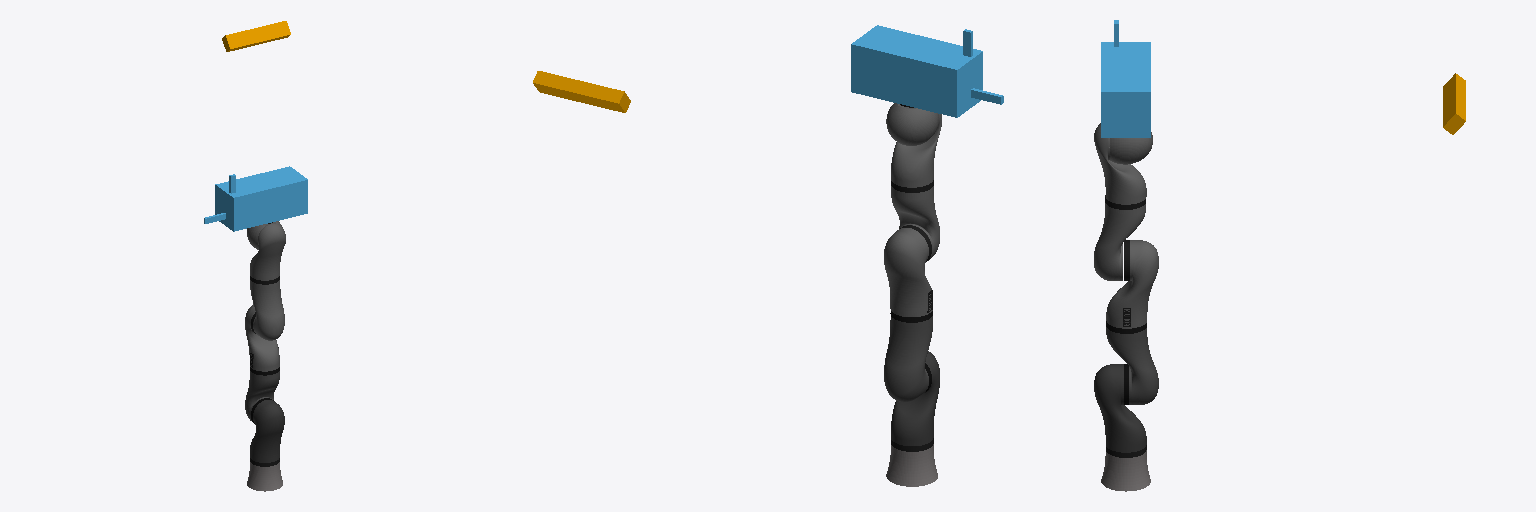
The robot description file, URDF, robot "lbr3_org":
<?xml version="1.0"?>
<robot name="lbr3_org">

 <link name="link_kinect">
    <visual>
      <geometry>
       <box size = "0.06 0.28 .04"/>
      </geometry>
      <material name="Blue"/>
    </visual>
 </link>

 <link name="segment_0">
    <visual>
      <geometry>
        <mesh filename="package://lbr3_model/cad/segment_0.dae" scale="0.001 0.001 0.001"/>
      </geometry>
    </visual>
	<collision>
			<geometry>
				<mesh filename="package://lbr3_model/cad/segment_0_collision.dae" scale="0.001 0.001 0.001"/>
			</geometry>
	</collision>
  </link>

 <link name="segment_1">
    <visual>
      <geometry>
        <mesh filename="package://lbr3_model/cad/segment_1.dae" scale="0.001 0.001 0.001"/>
      </geometry>
    </visual>
	<collision>
			<geometry>
				<mesh filename="package://lbr3_model/cad/segment_1_collision.dae" scale="0.001 0.001 0.001"/>
			</geometry>
		</collision> 
  </link>

 <link name="segment_2">
    <visual>
      <geometry>
        <mesh filename="package://lbr3_model/cad/segment_2.dae" scale="0.001 0.001 0.001"/>
      </geometry>
    </visual>
	<collision>
			<geometry>
				<mesh filename="package://lbr3_model/cad/segment_2_collision.dae" scale="0.001 0.001 0.001"/>
			</geometry>
		</collision>
  </link>

 <link name="segment_3">
    <visual>
      <geometry>
        <mesh filename="package://lbr3_model/cad/segment_3.dae" scale="0.001 0.001 0.001"/>
      </geometry>
    </visual>
		<collision>
			<geometry>
				<mesh filename="package://lbr3_model/cad/segment_3_collision.dae" scale="0.001 0.001 0.001"/>
			</geometry>
		</collision> 
  </link>

 <link name="segment_4">
    <visual>
      <geometry>
        <mesh filename="package://lbr3_model/cad/segment_4.dae" scale="0.001 0.001 0.001"/>
      </geometry>
    </visual>
		<collision>
			<geometry>
				<mesh filename="package://lbr3_model/cad/segment_4_collision.dae" scale="0.001 0.001 0.001"/>
			</geometry>
		</collision> -->
  </link>

 <link name="segment_5">
    <visual>
      <geometry>
        <mesh filename="package://lbr3_model/cad/segment_5.dae" scale="0.001 0.001 0.001"/>
      </geometry>
    </visual>
		<collision>
			<geometry>
				<mesh filename="package://lbr3_model/cad/segment_5_collision.dae" scale="0.001 0.001 0.001"/>
			</geometry>
		</collision> 
  </link>

  <link name="segment_6">
    <visual>
      <geometry>
        <mesh filename="package://lbr3_model/cad/segment_6.dae" scale="0.001 0.001 0.001"/>
      </geometry>
    </visual>
		<collision>
			<geometry>
				<mesh filename="package://lbr3_model/cad/segment_6_collision.dae" scale="0.001 0.001 0.001"/>
			</geometry>
		</collision>
  </link>

  <link name="segment_7">
    <visual>
      <geometry>
        <mesh filename="package://lbr3_model/cad/segment_7.dae" scale="0.001 0.001 0.001"/>
      </geometry>
    </visual>
		<collision>
			<geometry>
				<mesh filename="package://lbr3_model/cad/segment_7_collision.dae" scale="0.001 0.001 0.001"/>
			</geometry>
		</collision>
  </link>
<!--
  <link name="finger_1_link_0">
    <visual>
      <origin rpy="0 0 0" xyz="0.020 0 0"/>
      <geometry>
        <mesh filename="package://robotiq_s_model_visualization/meshes/s-model_articulated/visual/link_0.STL"/>
      </geometry>
      <material name="green">
        <color rgba="0 1 0 1"/>
      </material>
    </visual>
    <collision>
      <origin rpy="0 3.1416 -1.57" xyz="-0.0455 0.0414 0.036"/>
      <geometry>
        <mesh filename="package://robotiq_s_model_visualization/meshes/s-model_articulated/collision/link_0.STL"/>
      </geometry>
      <material name="yellow">
        <color rgba="0 1 1 1"/>
      </material>
    </collision>
    <inertial>
      <origin rpy="0 0 0" xyz="0 0 0"/>
      <mass value="0.05"/>
      <inertia ixx="0.01" ixy="-0.00002" ixz="0.00001" iyy="0.0008" iyz="0" izz="0.001"/>
    </inertial>
  </link>
  <link name="finger_1_link_1">
    <visual>
      <origin rpy="0 0 -0.52" xyz="0.050 -.028 0"/>
      <geometry>
        <mesh filename="package://robotiq_s_model_visualization/meshes/s-model_articulated/visual/link_1.STL"/>
      </geometry>
      <material name="green"/>
    </visual>
    <collision>
      <origin rpy="0 0 -0.52" xyz="0.050 -.028 0"/>
      <geometry>
        <mesh filename="package://robotiq_s_model_visualization/meshes/s-model_articulated/collision/link_1.STL"/>
      </geometry>
      <material name="yellow"/>
    </collision>
    <inertial>
      <origin rpy="0 0 0" xyz="0 0 0"/>
      <mass value="0.15"/>
      <inertia ixx="0.001859" ixy="-0.000376" ixz="0.000028" iyy="0.012756" iyz="0" izz="0.0024"/>
    </inertial>
  </link>
  <link name="finger_1_link_2">

    <visual>
      <origin rpy="0 0 0" xyz="0.039 0 0.0075"/>
      <geometry>
        <mesh filename="package://robotiq_s_model_visualization/meshes/s-model_articulated/visual/link_2.STL"/>
      </geometry>
      <material name="green"/>
    </visual>
    <collision>
      <origin rpy="0 0 0" xyz="0.039 0 0.0075"/>
      <geometry>
        <mesh filename="package://robotiq_s_model_visualization/meshes/s-model_articulated/collision/link_2.STL"/>
      </geometry>
      <material name="yellow"/>
    </collision>
    <inertial>
      <origin rpy="0 0 0" xyz="0 0 0"/>
      <mass value="0.15"/>
      <inertia ixx="0.001859" ixy="-0.000376" ixz="0.000028" iyy="0.012756" iyz="0" izz="0.0024"/>
    </inertial>
  </link>
  <link name="finger_1_link_3">
    <visual>
      <origin rpy="0 0 0.52" xyz="0 0 0"/>
      <geometry>
        <mesh filename="package://robotiq_s_model_visualization/meshes/s-model_articulated/visual/link_3.STL"/>
      </geometry>
      <material name="green"/>
    </visual>
    <collision>
      <origin rpy="0 0 0.52" xyz="0 0 0"/>
      <geometry>
        <mesh filename="package://robotiq_s_model_visualization/meshes/s-model_articulated/collision/link_3.STL"/>
      </geometry>
      <material name="yellow"/>
    </collision>
    <inertial>
      <origin rpy="0 0 0" xyz="0 0 0"/>
      <mass value="0.05"/>
      <inertia ixx="0.001239" ixy="-0.000251" ixz="0.000019" iyy="0.00085" iyz="0" izz="0.001632"/>
    </inertial>
  </link>
 
  <link name="finger_2_link_0">
    <visual>
      <origin rpy="0 0 0" xyz="0.020 0 0"/>
      <geometry>
        <mesh filename="package://robotiq_s_model_visualization/meshes/s-model_articulated/visual/link_0.STL"/>
      </geometry>
      <material name="green">
        <color rgba="0 1 0 1"/>
      </material>
    </visual>
    <collision>
      <origin rpy="0 3.1416 -1.57" xyz="-0.0455 0.0414 0.036"/>
      <geometry>
        <mesh filename="package://robotiq_s_model_visualization/meshes/s-model_articulated/collision/link_0.STL"/>
      </geometry>
      <material name="yellow">
        <color rgba="0 1 1 1"/>
      </material>
    </collision>
    <inertial>
      <origin rpy="0 0 0" xyz="0 0 0"/>
      <mass value="0.05"/>
      <inertia ixx="0.01" ixy="-0.00002" ixz="0.00001" iyy="0.0008" iyz="0" izz="0.001"/>
    </inertial>
  </link>
  <link name="finger_2_link_1">
    <visual>
      <origin rpy="0 0 -0.52" xyz="0.050 -.028 0"/>
      <geometry>
        <mesh filename="package://robotiq_s_model_visualization/meshes/s-model_articulated/visual/link_1.STL"/>
      </geometry>
      <material name="green"/>
    </visual>
    <collision>
      <origin rpy="0 0 -0.52" xyz="0.050 -.028 0"/>
      <geometry>
        <mesh filename="package://robotiq_s_model_visualization/meshes/s-model_articulated/collision/link_1.STL"/>
      </geometry>
      <material name="yellow"/>
    </collision>
    <inertial>
      <origin rpy="0 0 0" xyz="0 0 0"/>
      <mass value="0.15"/>
      <inertia ixx="0.001859" ixy="-0.000376" ixz="0.000028" iyy="0.012756" iyz="0" izz="0.0024"/>
    </inertial>
  </link>
  <link name="finger_2_link_2">

			
    <visual>
      <origin rpy="0 0 0" xyz="0.039 0 0.0075"/>
      <geometry>
        <mesh filename="package://robotiq_s_model_visualization/meshes/s-model_articulated/visual/link_2.STL"/>
      </geometry>
      <material name="green"/>
    </visual>
    <collision>
      <origin rpy="0 0 0" xyz="0.039 0 0.0075"/>
      <geometry>
        <mesh filename="package://robotiq_s_model_visualization/meshes/s-model_articulated/collision/link_2.STL"/>
      </geometry>
      <material name="yellow"/>
    </collision>
    <inertial>
      <origin rpy="0 0 0" xyz="0 0 0"/>
      <mass value="0.15"/>
      <inertia ixx="0.001859" ixy="-0.000376" ixz="0.000028" iyy="0.012756" iyz="0" izz="0.0024"/>
    </inertial>
  </link>
  <link name="finger_2_link_3">
    <visual>
      <origin rpy="0 0 0.52" xyz="0 0 0"/>
      <geometry>
        <mesh filename="package://robotiq_s_model_visualization/meshes/s-model_articulated/visual/link_3.STL"/>
      </geometry>
      <material name="green"/>
    </visual>
    <collision>
      <origin rpy="0 0 0.52" xyz="0 0 0"/>
      <geometry>
        <mesh filename="package://robotiq_s_model_visualization/meshes/s-model_articulated/collision/link_3.STL"/>
      </geometry>
      <material name="yellow"/>
    </collision>
    <inertial>
      <origin rpy="0 0 0" xyz="0 0 0"/>
      <mass value="0.05"/>
      <inertia ixx="0.001239" ixy="-0.000251" ixz="0.000019" iyy="0.00085" iyz="0" izz="0.001632"/>
    </inertial>
  </link>
  <link name="finger_middle_link_0">
    <visual>
      <origin rpy="0 0 0" xyz="0.020 0 0"/>
      <geometry>
        <mesh filename="package://robotiq_s_model_visualization/meshes/s-model_articulated/visual/link_0.STL"/>
      </geometry>
      <material name="green">
        <color rgba="0 1 0 1"/>
      </material>
    </visual>
    <collision>
      <origin rpy="0 3.1416 -1.57" xyz="-0.0455 0.0414 0.036"/>
      <geometry>
        <mesh filename="package://robotiq_s_model_visualization/meshes/s-model_articulated/collision/link_0.STL"/>
      </geometry>
      <material name="yellow">
        <color rgba="0 1 1 1"/>
      </material>
    </collision>
    <inertial>
      <origin rpy="0 0 0" xyz="0 0 0"/>
      <mass value="0.05"/>
      <inertia ixx="0.01" ixy="-0.00002" ixz="0.00001" iyy="0.0008" iyz="0" izz="0.001"/>
    </inertial>
  </link>
  <link name="finger_middle_link_1">
    <visual>
      <origin rpy="0 0 -0.52" xyz="0.050 -.028 0"/>
      <geometry>
        <mesh filename="package://robotiq_s_model_visualization/meshes/s-model_articulated/visual/link_1.STL"/>
      </geometry>
      <material name="green"/>
    </visual>
    <collision>
      <origin rpy="0 0 -0.52" xyz="0.050 -.028 0"/>
      <geometry>
        <mesh filename="package://robotiq_s_model_visualization/meshes/s-model_articulated/collision/link_1.STL"/>
      </geometry>
      <material name="yellow"/>
    </collision>
    <inertial>
      <origin rpy="0 0 0" xyz="0 0 0"/>
      <mass value="0.15"/>
      <inertia ixx="0.001859" ixy="-0.000376" ixz="0.000028" iyy="0.012756" iyz="0" izz="0.0024"/>
    </inertial>
  </link>
  <link name="finger_middle_link_2">

			
    <visual>
      <origin rpy="0 0 0" xyz="0.039 0 0.0075"/>
      <geometry>
        <mesh filename="package://robotiq_s_model_visualization/meshes/s-model_articulated/visual/link_2.STL"/>
      </geometry>
      <material name="green"/>
    </visual>
    <collision>
      <origin rpy="0 0 0" xyz="0.039 0 0.0075"/>
      <geometry>
        <mesh filename="package://robotiq_s_model_visualization/meshes/s-model_articulated/collision/link_2.STL"/>
      </geometry>
      <material name="yellow"/>
    </collision>
    <inertial>
      <origin rpy="0 0 0" xyz="0 0 0"/>
      <mass value="0.15"/>
      <inertia ixx="0.001859" ixy="-0.000376" ixz="0.000028" iyy="0.012756" iyz="0" izz="0.0024"/>
    </inertial>
  </link>
  <link name="finger_middle_link_3">
    <visual>
      <origin rpy="0 0 0.52" xyz="0 0 0"/>
      <geometry>
        <mesh filename="package://robotiq_s_model_visualization/meshes/s-model_articulated/visual/link_3.STL"/>
      </geometry>
      <material name="green"/>
    </visual>
    <collision>
      <origin rpy="0 0 0.52" xyz="0 0 0"/>
      <geometry>
        <mesh filename="package://robotiq_s_model_visualization/meshes/s-model_articulated/collision/link_3.STL"/>
      </geometry>
      <material name="yellow"/>
    </collision>
    <inertial>
      <origin rpy="0 0 0" xyz="0 0 0"/>
      <mass value="0.05"/>
      <inertia ixx="0.001239" ixy="-0.000251" ixz="0.000019" iyy="0.00085" iyz="0" izz="0.001632"/>
    </inertial>
  </link>

  <link name="palm">
    <visual>
      <geometry>
        <mesh filename="package://robotiq_s_model_visualization/meshes/s-model_articulated/visual/palm.STL"/>
      </geometry>
      <material name="green">
        <color rgba="0 1 0 1"/>
      </material>
    </visual>
    <collision>
      <geometry>
        <mesh filename="package://robotiq_s_model_visualization/meshes/s-model_articulated/collision/palm.STL"/>
      </geometry>
      <material name="yellow">
        <color rgba="0 1 1 1"/>
      </material>
    </collision>
  <inertial>
    <origin rpy="0 0 0" xyz="0 0 0"/>
    <mass value="1.3"/>
    <inertia ixx="0.006012" ixy="0.000079" ixz="-0.00024" iyy="0.012892" iyz="0" izz="0.002435"/>
  </inertial>
  </link>
-->
  <!-- ################################### JOINTS ############################### -->
  <joint name="kinect_depth_joint" type="fixed">
     <!--<origin xyz="0.495 0.92 1.455" rpy="0 0.9 -1.57"/> -->
     <origin xyz="0.515 0.96 1.455" rpy="0 0.87 -1.57"/>
     <parent link="segment_0"/>
     <child link="link_kinect"/>
  </joint>

  <joint name="joint_0" type="revolute">
    <limit lower="-2.96705972839031" upper="2.96705972839031" effort="176" velocity="1.31" />
    <parent link="segment_0"/> 
    <child link="segment_1"/>
    <axis xyz="0 0 1"/>
    <origin xyz="0 0 .1105"/>
  </joint>

  <joint name="joint_1" type="revolute">
    <limit lower="-2.094395102393187" upper="2.0943951023931335" effort="176" velocity="1.31" />
    <parent link="segment_1"/>
    <child link="segment_2"/>
    <axis xyz="0 1 0"/>
    <origin xyz="0 0 .2"/>
  </joint>

  <joint name="joint_2" type="revolute">
    <limit lower="-2.96705972839031" upper="2.96705972839031" effort="110" velocity="1.57" />
    <parent link="segment_2"/>
    <child link="segment_3"/>
    <axis xyz="0 0 1"/>
    <origin xyz="0 0 .2"/>
  </joint>

  <joint name="joint_3" type="revolute">
    <limit lower="-2.09439510239316" upper="2.09439510239316" effort="110" velocity="1.57" />
    <parent link="segment_3"/>
    <child link="segment_4"/>
    <axis xyz="0 -1 0"/>
    <origin xyz="0 0 .2"/>
  </joint>

  <joint name="joint_4" type="revolute">
    <limit lower="-2.96705972839031" upper="2.96705972839031" effort="110" velocity="2.51" />
    <parent link="segment_4"/>
    <child link="segment_5"/>
    <axis xyz="0 0 1"/>
    <origin xyz="0 0 .2"/>
  </joint>

  <joint name="joint_5" type="revolute">
    <limit lower="-2.09439510239316" upper="2.09439510239316" effort="40" velocity="2.36" />
    <parent link="segment_5"/>
    <child link="segment_6"/>
    <axis xyz="0 1 0"/>
    <origin xyz="0 0 0.1885"/>
  </joint>

  <joint name="joint_6" type="revolute">
    <limit lower="-2.96705972839031" upper="2.96705972839031" effort="40" velocity="2.36" />
    <parent link="segment_6"/>
    <child link="segment_7"/>
    <axis xyz="0 0 1"/>
    <origin xyz="0 0 .0795"/>
  </joint>

<!-- ###################### GRIPPER JOINTS #################### -->
<!--
  <joint name="finger_middle_joint_1" type="revolute">
    <parent link="finger_middle_link_0"/>
    <child link="finger_middle_link_1"/>
    <axis xyz="0 0 1"/>
    <origin rpy="0 0 0" xyz="0.020 0 0"/>
    <limit effort="100" lower="0" upper="3.1416" velocity="100"/>
  </joint>
  <joint name="finger_middle_joint_2" type="fixed">
    <parent link="finger_middle_link_1"/>
    <child link="finger_middle_link_2"/>
    <axis xyz="0 0 1"/>
    <origin rpy="0 0 -0.52" xyz="0.050 -.028 0"/>
    <limit effort="100" lower="0" upper="3.1416" velocity="100"/>
  </joint>
  <joint name="finger_middle_joint_3" type="fixed">
    <parent link="finger_middle_link_2"/>
    <child link="finger_middle_link_3"/>
    <axis xyz="0 0 1"/>
    <origin rpy="0 0 -0.5579" xyz="0.039 0 0"/>
    <limit effort="100" lower="-1.0" upper="3.1416" velocity="100"/>
  </joint>
  <joint name="palm_finger_1_joint" type="fixed">
    <parent link="palm"/>
    <child link="finger_1_link_0"/>
    <axis xyz="0 1 0"/>
    <origin rpy="0 2.9816 -1.57" xyz="-0.0455 0.0214 0.036"/>
    <limit effort="100" lower="-0.16" upper="0.25" velocity="100"/>
  </joint>
  <joint name="palm_finger_2_joint" type="fixed">
    <parent link="palm"/>
    <child link="finger_2_link_0"/>
    <axis xyz="0 1 0"/>
    <origin rpy="0 3.3016 -1.57" xyz="-0.0455 0.0214 -0.036"/>
    <limit effort="100" lower="-0.25" upper="0.16" velocity="100"/>
  </joint>
  <joint name="palm_finger_middle_joint" type="fixed">
    <parent link="palm"/>
    <child link="finger_middle_link_0"/>
    <axis xyz="0 0 1"/>
    <origin rpy="0 0 1.57" xyz="0.0455 0.0214 0"/>
  </joint>

 <joint name="finger_2_joint_1" type="revolute">
    <mimic joint="finger_middle_joint_1" multiplier="1" />
    <parent link="finger_2_link_0"/>
    <child link="finger_2_link_1"/>
    <axis xyz="0 0 1"/>
    <origin rpy="0 0 0" xyz="0.020 0 0"/>
    <limit effort="100" lower="0" upper="3.1416" velocity="100"/>
  </joint>
  <joint name="finger_2_joint_2" type="fixed">
    <parent link="finger_2_link_1"/>
    <child link="finger_2_link_2"/>
    <axis xyz="0 0 1"/>
    <origin rpy="0 0 -0.52" xyz="0.050 -.028 0"/>
    <limit effort="100" lower="0" upper="3.1416" velocity="100"/>
  </joint>
  <joint name="finger_2_joint_3" type="fixed">
    <parent link="finger_2_link_2"/>
    <child link="finger_2_link_3"/>
    <axis xyz="0 0 1"/>
    <origin rpy="0 0 -0.61" xyz="0.039 0 0"/>
    <limit effort="100" lower="-1.0" upper="3.1416" velocity="100"/>
  </joint>

 <joint name="finger_1_joint_1" type="revolute">
    <mimic joint="finger_middle_joint_1" multiplier="1" />
    <parent link="finger_1_link_0"/>
    <child link="finger_1_link_1"/>
    <axis xyz="0 0 1"/>
    <origin rpy="0 0 0" xyz="0.020 0 0"/>
    <limit effort="100" lower="0" upper="3.1416" velocity="100"/>
  </joint>
  <joint name="finger_1_joint_2" type="fixed">
    <parent link="finger_1_link_1"/>
    <child link="finger_1_link_2"/>
    <axis xyz="0 0 1"/>
    <origin rpy="0 0 -0.52" xyz="0.050 -.028 0"/>
    <limit effort="100" lower="0" upper="3.1416" velocity="100"/>
  </joint>
  <joint name="finger_1_joint_3" type="fixed">
    <parent link="finger_1_link_2"/>
    <child link="finger_1_link_3"/>
    <axis xyz="0 0 1"/>
    <origin rpy="0 0 -0.61" xyz="0.039 0 0"/>
    <limit effort="100" lower="-1.0" upper="3.1416" velocity="100"/>
  </joint>


  <joint name="wrist" type="fixed">
     <parent link="segment_7" />
     <child  link="palm" />
     <axis xyz="0 0 1" />
     <origin rpy="1.57 0 2.9" xyz = "0 0 0.05" />
  </joint>
-->

<!-- ###################### TOOL #################### -->
  <link name="tool">
    <visual>
      <geometry>
        <mesh filename="package://kuka_description/cad/tool.dae" scale="0.001 0.001 0.001"/>
      </geometry>
    </visual>
    <collision>
      <geometry>
        <mesh filename="package://kuka_description/cad/tool.dae" scale="0.001 0.001 0.001"/>
      </geometry>
    </collision>
  </link>
  <joint name="joint_tool" type="fixed">
    <parent link="segment_7"/>
    <child link="tool"/>
    <axis xyz="0 0 1"/>
    <origin xyz="0 0 0"/>
  </joint>

</robot>

--- Facts derived from the render (not from the file) ---
3 views of the same robot in one strip: view 1: azimuth 30°, elevation 25°; view 2: azimuth 150°, elevation 25°; view 3: azimuth 270°, elevation 25° (orthographic).
Robot: lbr3_org — 10 links, 9 joints (7 revolute, 2 fixed); root link segment_0; default pose: every joint at zero.
Links seen in each view (by area): view 1: tool, segment_1, segment_4, segment_5, segment_3, link_kinect, segment_2, segment_0; view 2: tool, segment_3, segment_2, segment_1, link_kinect, segment_4, segment_5, segment_0, segment_6; view 3: tool, segment_3, segment_1, segment_2, segment_4, segment_5, segment_0, link_kinect, segment_6.
Boxes of the visible links, <box> form: tool: <box>204,166,307,231</box>; segment_1: <box>250,398,284,462</box>; segment_4: <box>250,276,284,340</box>; segment_5: <box>250,223,285,280</box>; segment_3: <box>245,304,279,371</box>; link_kinect: <box>222,21,290,51</box>; segment_2: <box>245,367,279,420</box>; segment_0: <box>247,458,282,491</box>; tool: <box>851,25,1003,117</box>; segment_3: <box>884,225,932,316</box>; segment_2: <box>884,311,932,401</box>; segment_1: <box>891,351,939,445</box>; link_kinect: <box>533,71,630,112</box>; segment_4: <box>891,180,939,260</box>; segment_5: <box>891,114,941,187</box>; segment_0: <box>886,438,937,486</box>; segment_6: <box>886,103,938,145</box>; tool: <box>1101,20,1150,137</box>; segment_3: <box>1106,240,1158,328</box>; segment_1: <box>1094,364,1146,452</box>; segment_2: <box>1106,321,1158,404</box>; segment_4: <box>1094,195,1145,280</box>; segment_5: <box>1094,123,1146,204</box>; segment_0: <box>1101,445,1150,491</box>; link_kinect: <box>1443,73,1465,134</box>; segment_6: <box>1110,132,1152,164</box>.
Size in the robot's own frame: 0.9403 by 1.09 by 1.49 metres.
9 mesh visuals loaded from 9 distinct referenced files (9 Collada DAE).
